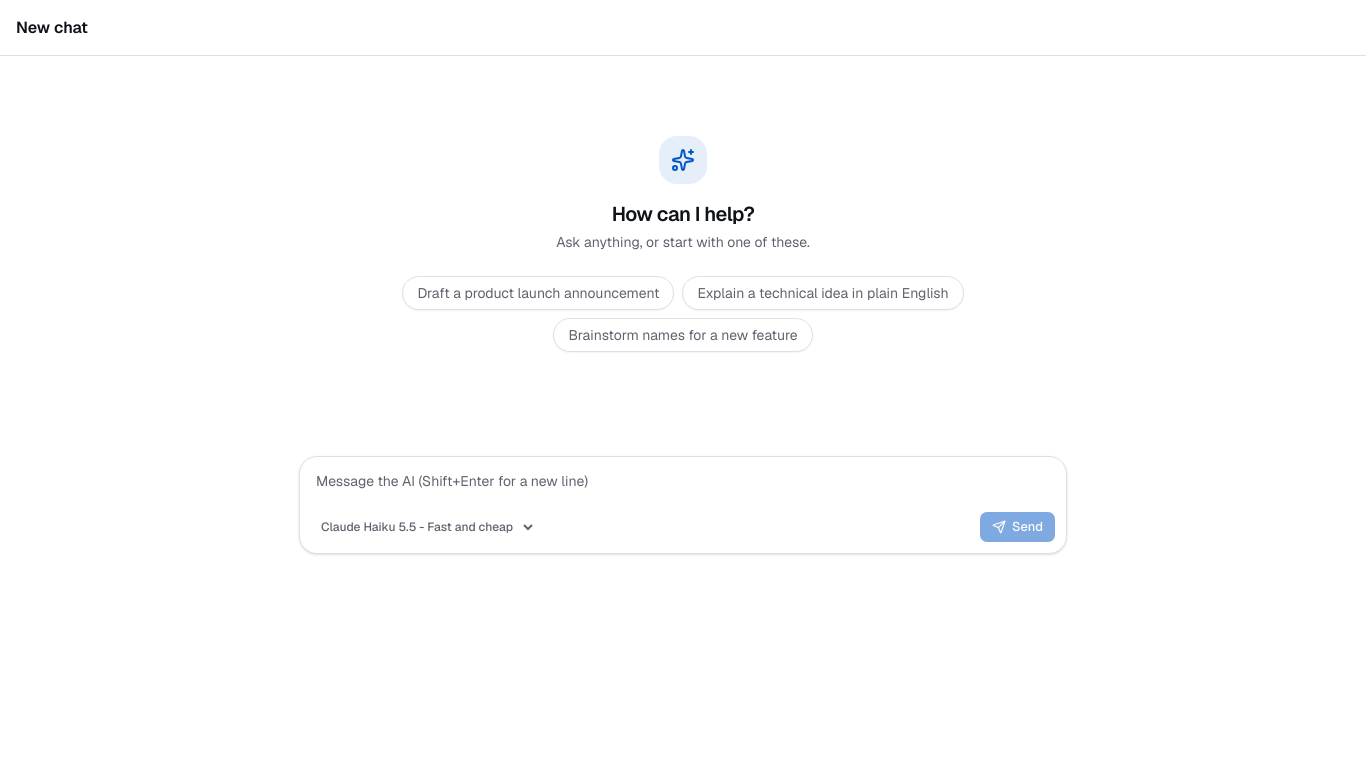
Test: ChatThread › an empty chat offers starter prompts that fill the message box
Click the button "Brainstorm names for a new feature".
click(683, 335)  # box x1=553 y1=318 x2=812 y2=352
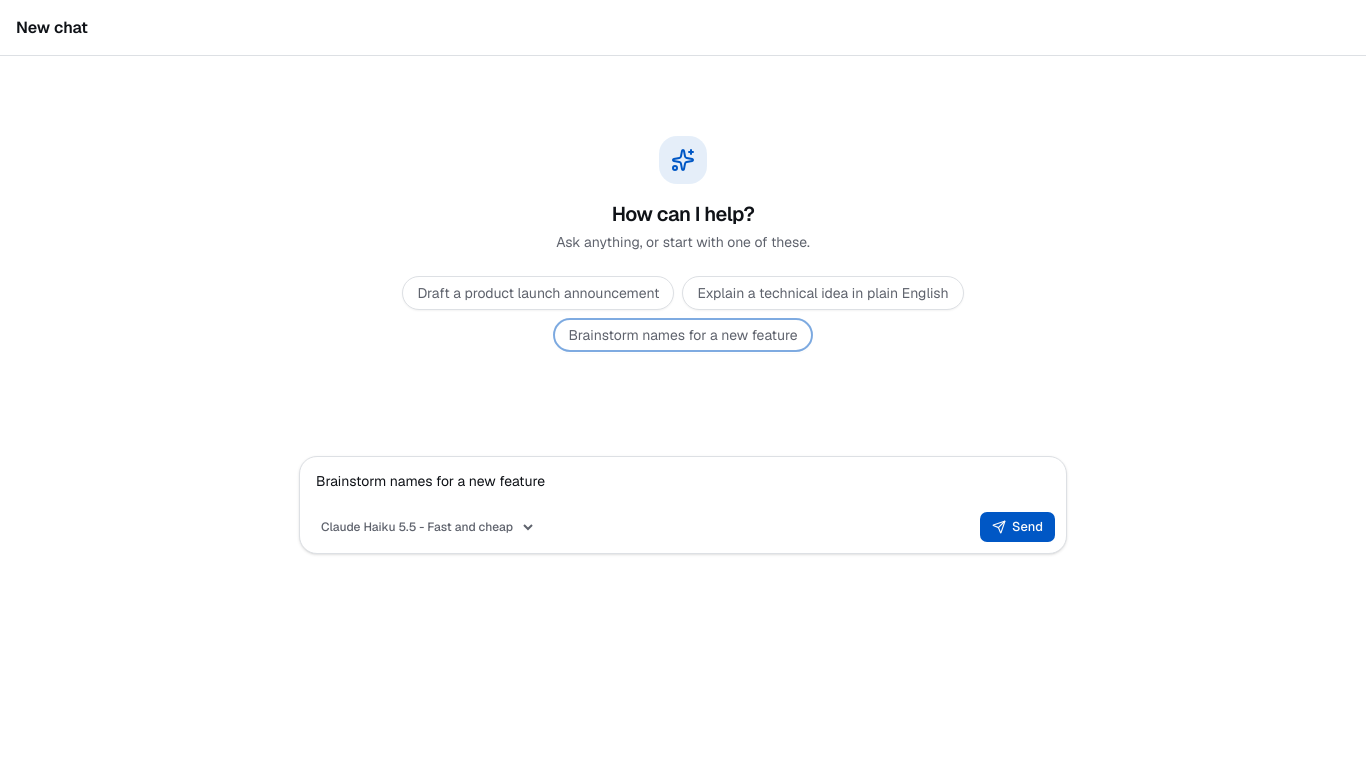
Result: the text box named "Message" holds "Brainstorm names for a new feature" at x1=300 y1=457 x2=1066 y2=511
